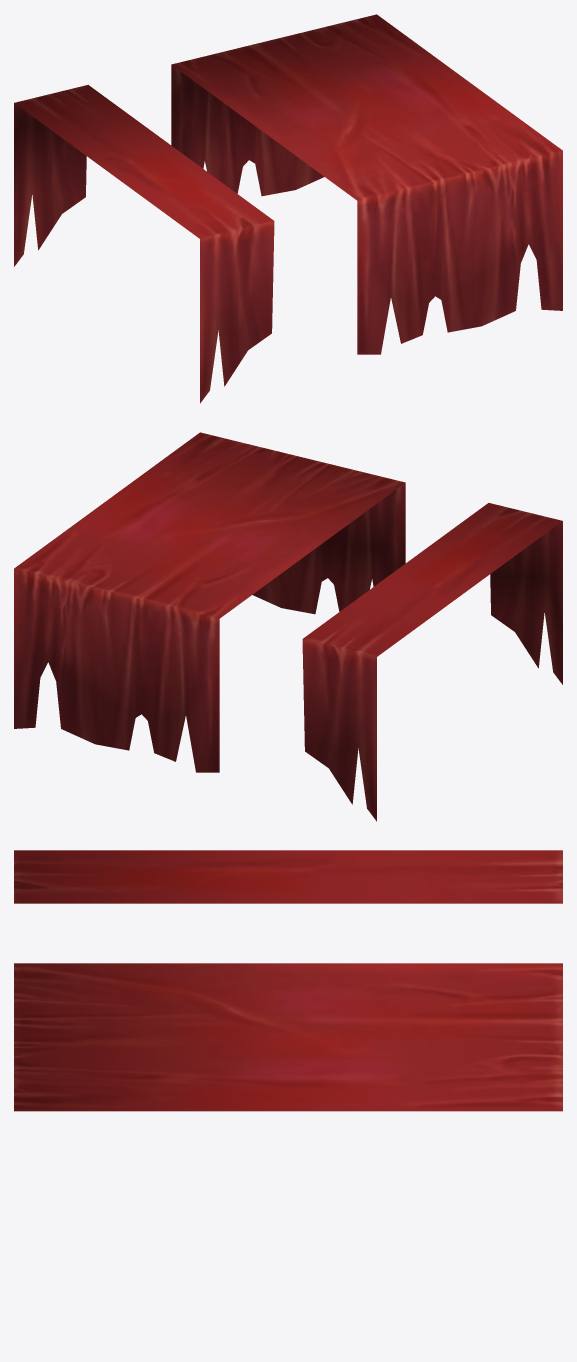
Rendered from Stage_DiXiaCheng_ZhuoBu.FBX.
The picture shows the model from 3 angles, top to bottom: view 1: azimuth 30°, elevation 25°; view 2: azimuth 150°, elevation 25°; view 3: azimuth 270°, elevation 25°; orthographic projection. The views are drawn at different scales.
Parts seen in each view (by area): view 1: Stage_DiXiaCheng_ZhuoBu; view 2: Stage_DiXiaCheng_ZhuoBu; view 3: Stage_DiXiaCheng_ZhuoBu.
Part boxes in pixels (x1,y1,x2,y2): Stage_DiXiaCheng_ZhuoBu: (14,14,562,403); Stage_DiXiaCheng_ZhuoBu: (14,432,562,821); Stage_DiXiaCheng_ZhuoBu: (14,850,562,1111).
Bounding box in the file's own units: 204 × 88.24 × 181.
